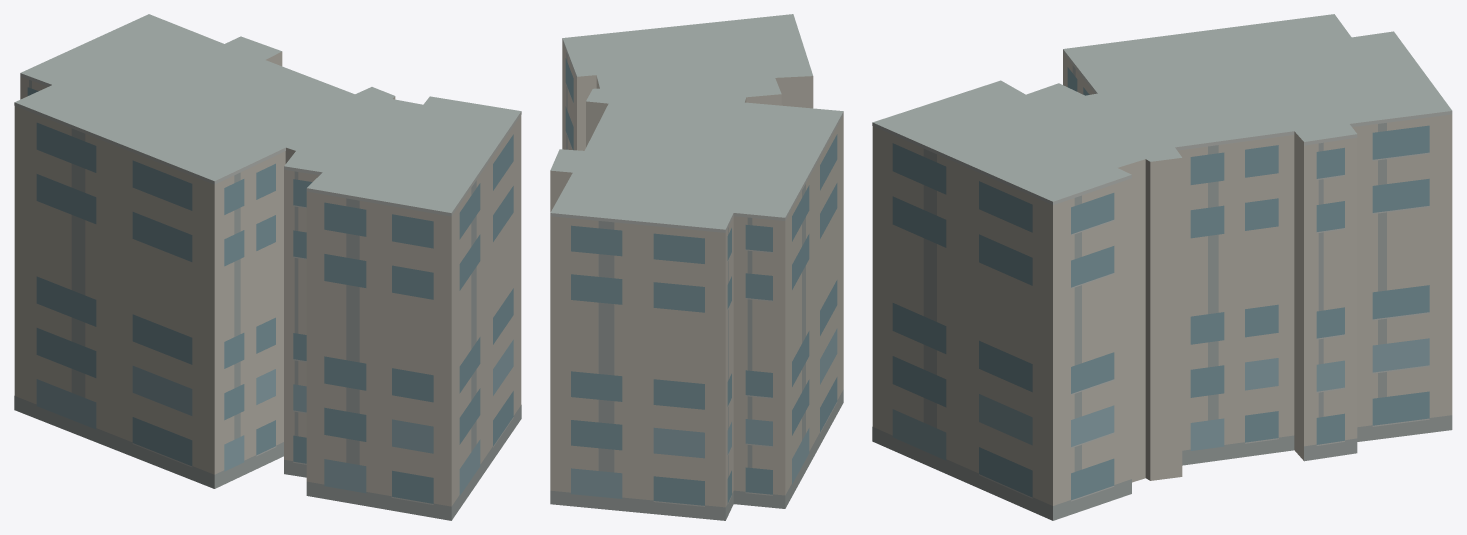
File: survey-upis-32982013.glb
The picture shows the model from 3 angles, left to right: view 1: azimuth 30°, elevation 25°; view 2: azimuth 150°, elevation 25°; view 3: azimuth 270°, elevation 25°; orthographic projection. The views are drawn at different scales.
Parts seen in each view (by area): view 1: survey-upis-32982013.tmp; view 2: survey-upis-32982013.tmp; view 3: survey-upis-32982013.tmp.
Part boxes in pixels (left/top/right/bottom): survey-upis-32982013.tmp: left=14, top=14, right=521, bottom=520; survey-upis-32982013.tmp: left=550, top=14, right=843, bottom=520; survey-upis-32982013.tmp: left=872, top=14, right=1452, bottom=520.
Size of the model in its own units: 27.4 by 21.7 by 35.75.
